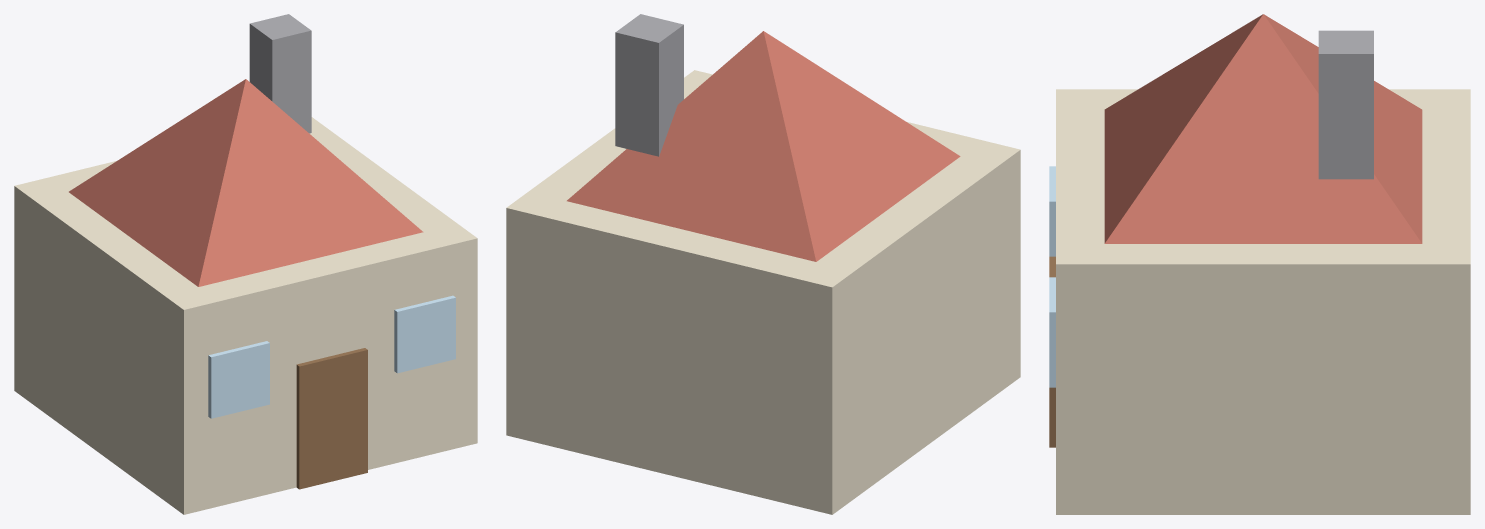
The model's file is house.glb.
3 views of the same model, side by side, from view 1: azimuth 30°, elevation 25°; view 2: azimuth 150°, elevation 25°; view 3: azimuth 270°, elevation 25° (orthographic). The views are drawn at different scales.
Parts seen in each view (by area): view 1: walls, roof, door, chimney, window left, window right; view 2: walls, roof, chimney; view 3: walls, roof, chimney, window right, window left, door.
Part boxes in pixels (x1,y1,x2,y2): walls: (14, 117, 477, 514); roof: (69, 79, 423, 286); door: (296, 348, 367, 489); chimney: (249, 14, 311, 133); window left: (208, 341, 269, 418); window right: (394, 295, 455, 373); walls: (506, 70, 1020, 514); roof: (567, 31, 960, 261); chimney: (615, 14, 683, 156); walls: (1056, 89, 1470, 514); roof: (1104, 14, 1422, 243); chimney: (1318, 30, 1373, 179); window right: (1049, 277, 1055, 387); window left: (1049, 166, 1055, 256); door: (1049, 256, 1055, 447).
Bounding box in the file's own units: 3 × 3.4 × 3.05.
